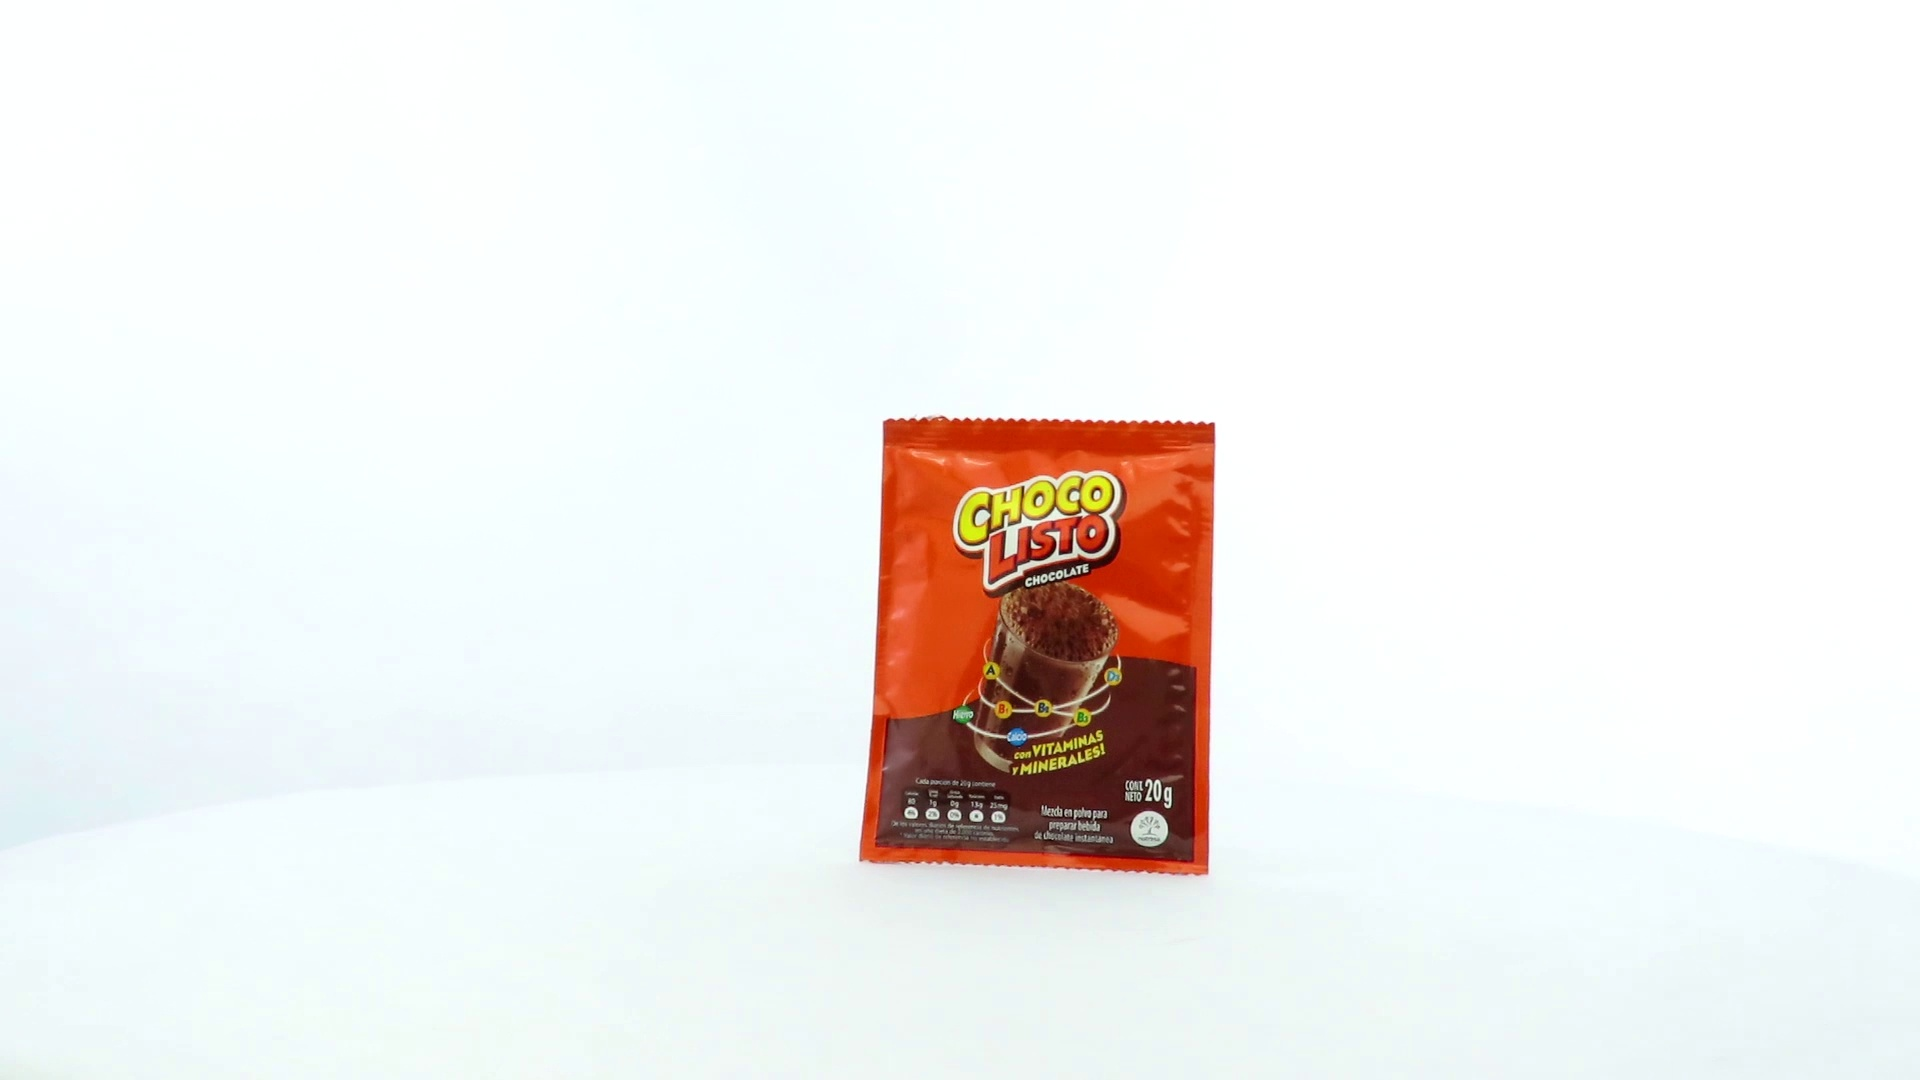COL0170103SOB02000: (855, 410, 1222, 882)
